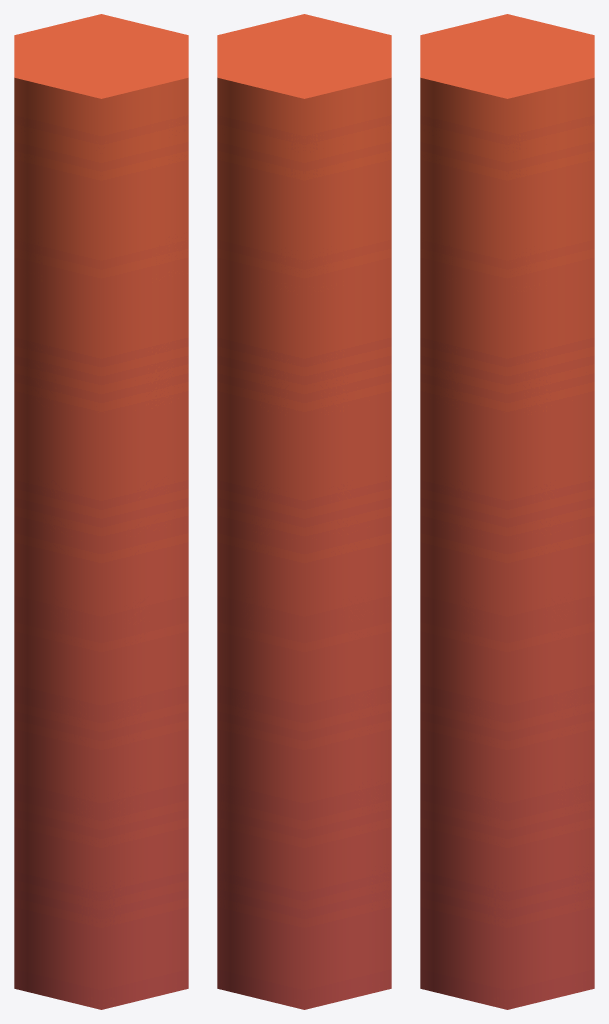
File: pipe.glb
3 views of the same model, side by side, from view 1: azimuth 30°, elevation 25°; view 2: azimuth 150°, elevation 25°; view 3: azimuth 270°, elevation 25° (orthographic).
Visible parts, largest first — view 1: pipe; view 2: pipe; view 3: pipe.
Part boxes in pixels (x1=…): pipe: x1=14, y1=14, x2=188, y2=1009; pipe: x1=217, y1=14, x2=391, y2=1009; pipe: x1=420, y1=14, x2=594, y2=1009.
Bounding box in the file's own units: 0.2 × 1 × 0.1732.
1 material, 1 textured.
